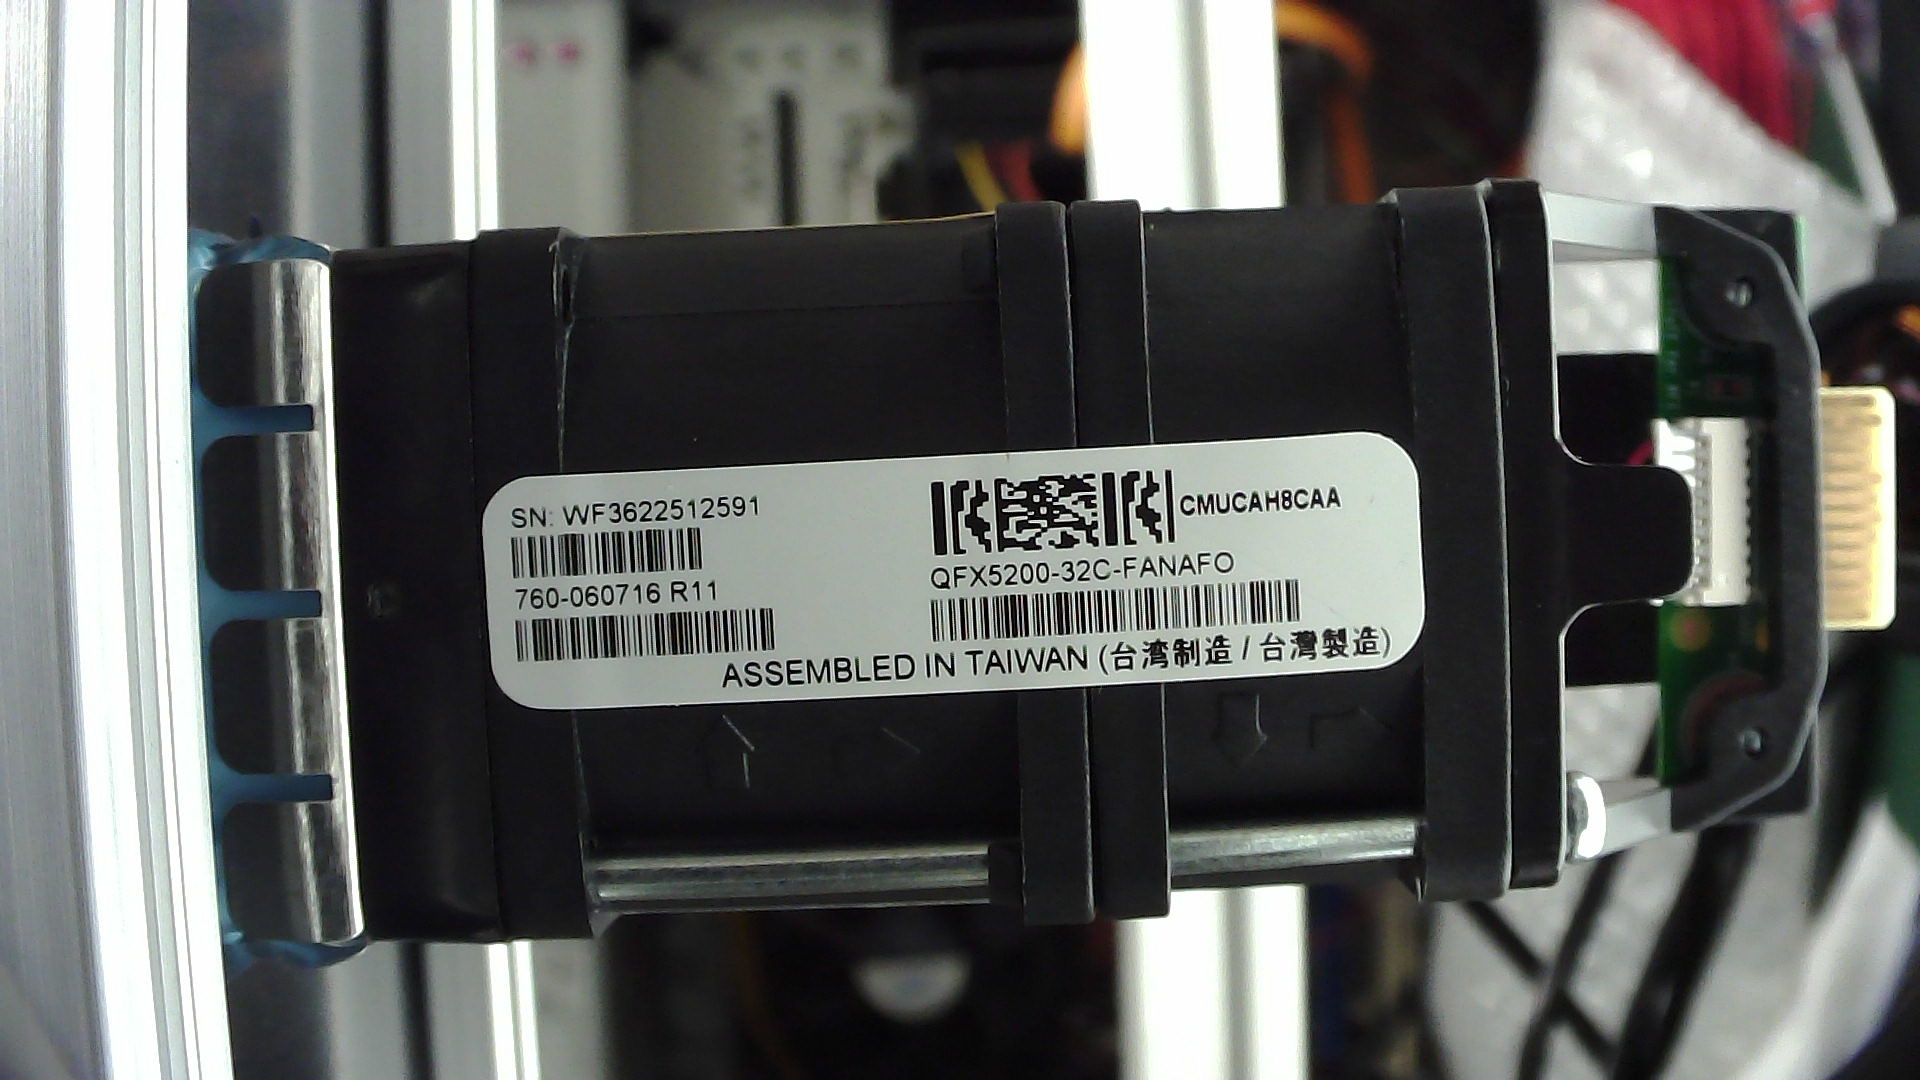6_2: (1680, 404, 1714, 620)
